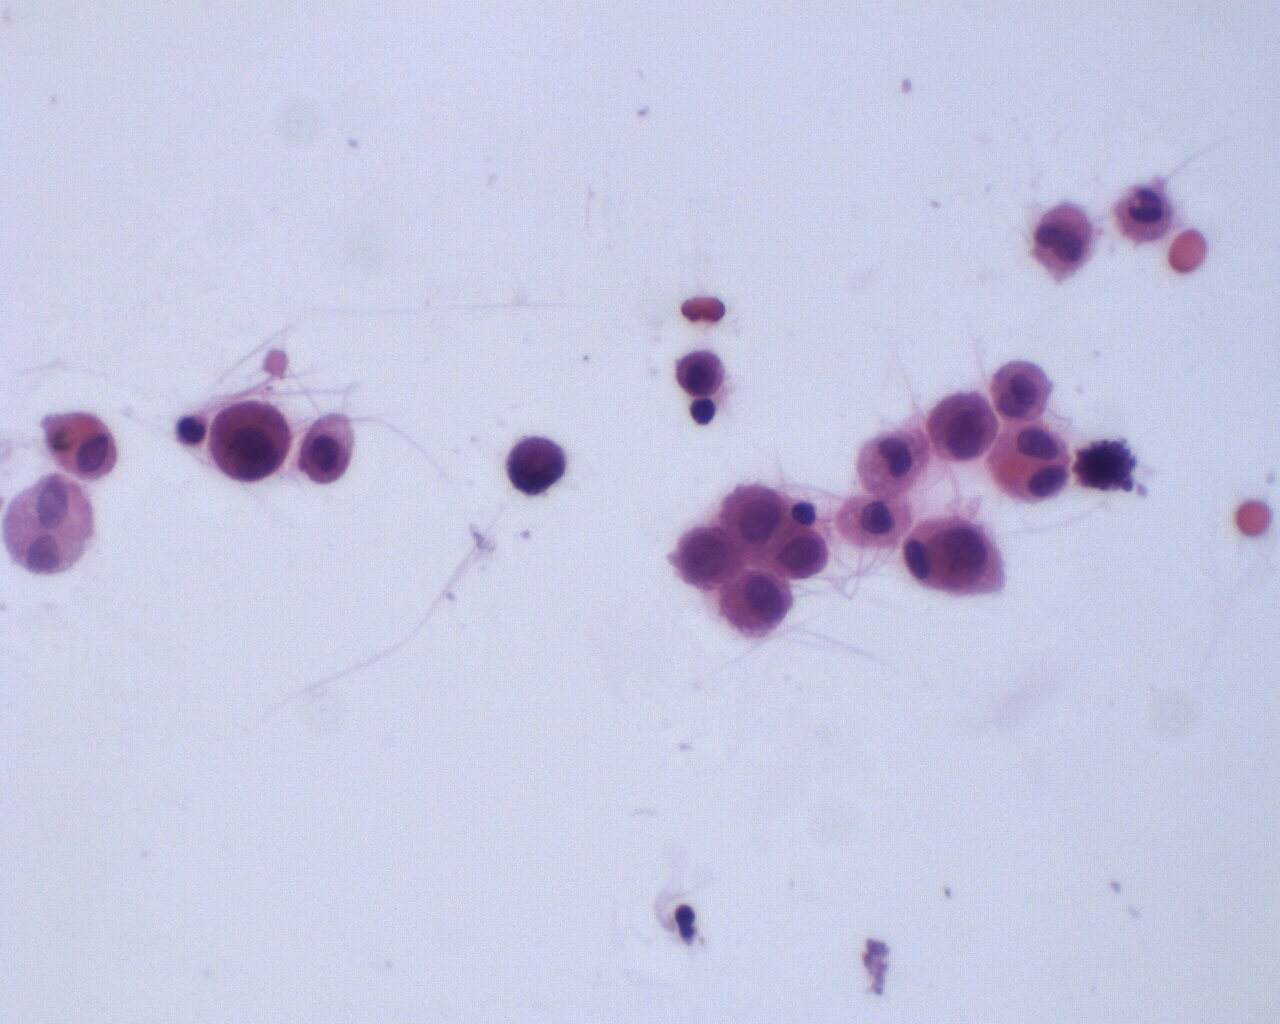ab: (904, 510, 1013, 606), (204, 398, 294, 485), (926, 386, 1002, 467), (721, 566, 795, 639), (719, 481, 789, 552), (501, 430, 571, 501), (674, 522, 742, 592), (770, 525, 833, 585), (673, 347, 730, 397)
lymph: (686, 395, 716, 429)
meso: (987, 418, 1075, 506), (836, 492, 914, 552)
